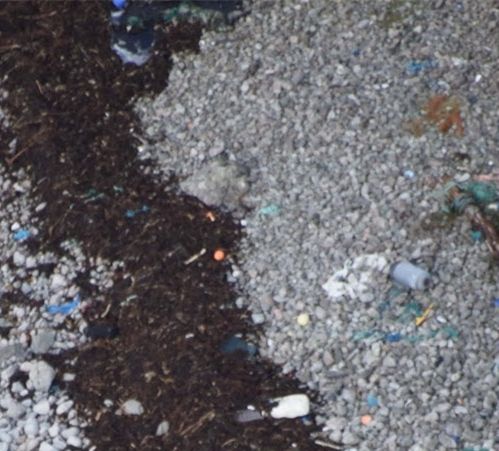scattered_barrel: (102, 382, 315, 448), (120, 196, 233, 268), (267, 384, 390, 436)
together_barrel: (394, 48, 499, 247), (295, 247, 461, 350), (98, 1, 255, 68)
white_in_green: (365, 231, 460, 313), (204, 312, 277, 380), (65, 297, 138, 361), (37, 282, 93, 329), (1, 213, 48, 257)
